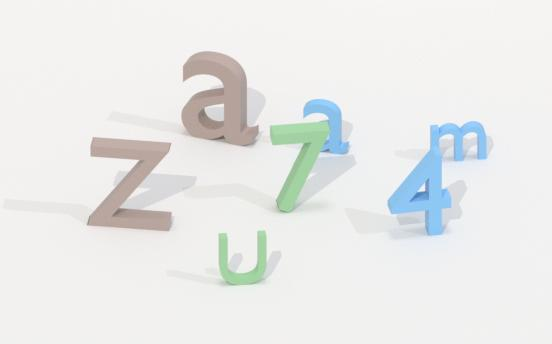4: (387, 147, 452, 241)
7: (268, 118, 332, 217)
a: (180, 48, 261, 149), (302, 95, 350, 157)
m: (427, 119, 491, 165)
u: (217, 229, 270, 287)
z: (86, 134, 175, 235)
